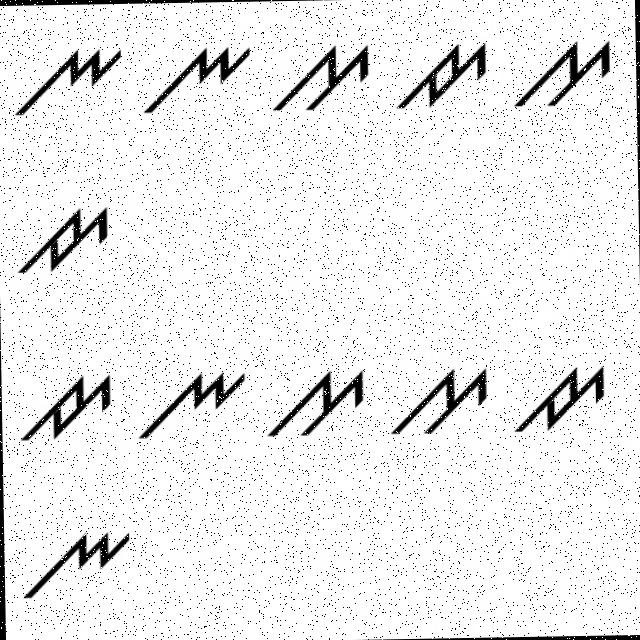ja: (507, 351, 617, 448), (11, 197, 123, 279), (15, 360, 114, 450), (388, 34, 488, 113)
nya: (133, 356, 255, 449), (12, 524, 142, 604), (14, 34, 125, 124), (136, 35, 254, 119)
sa: (505, 29, 620, 116), (268, 358, 376, 440), (271, 32, 375, 114), (392, 358, 492, 439)
